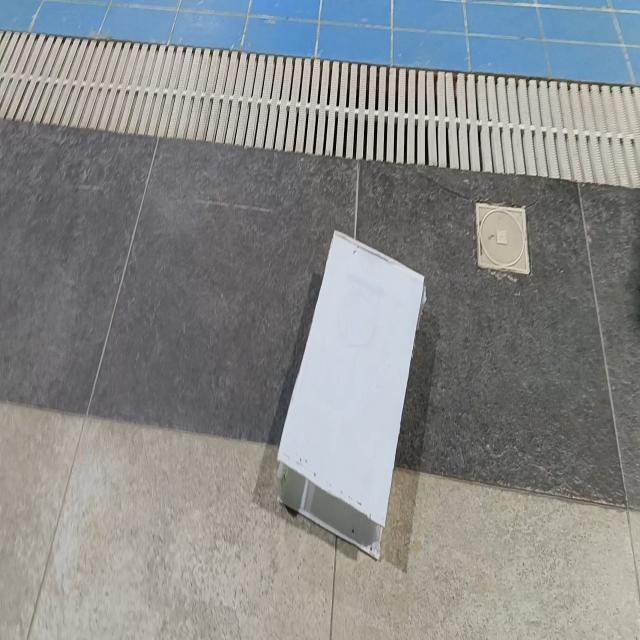Cuboid: (275, 228, 426, 560)
